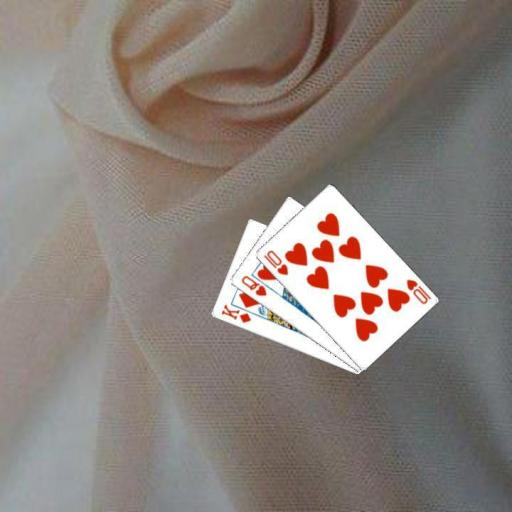card-corner: (260, 246, 290, 276), (404, 276, 432, 306), (238, 272, 268, 298), (218, 302, 252, 324)
